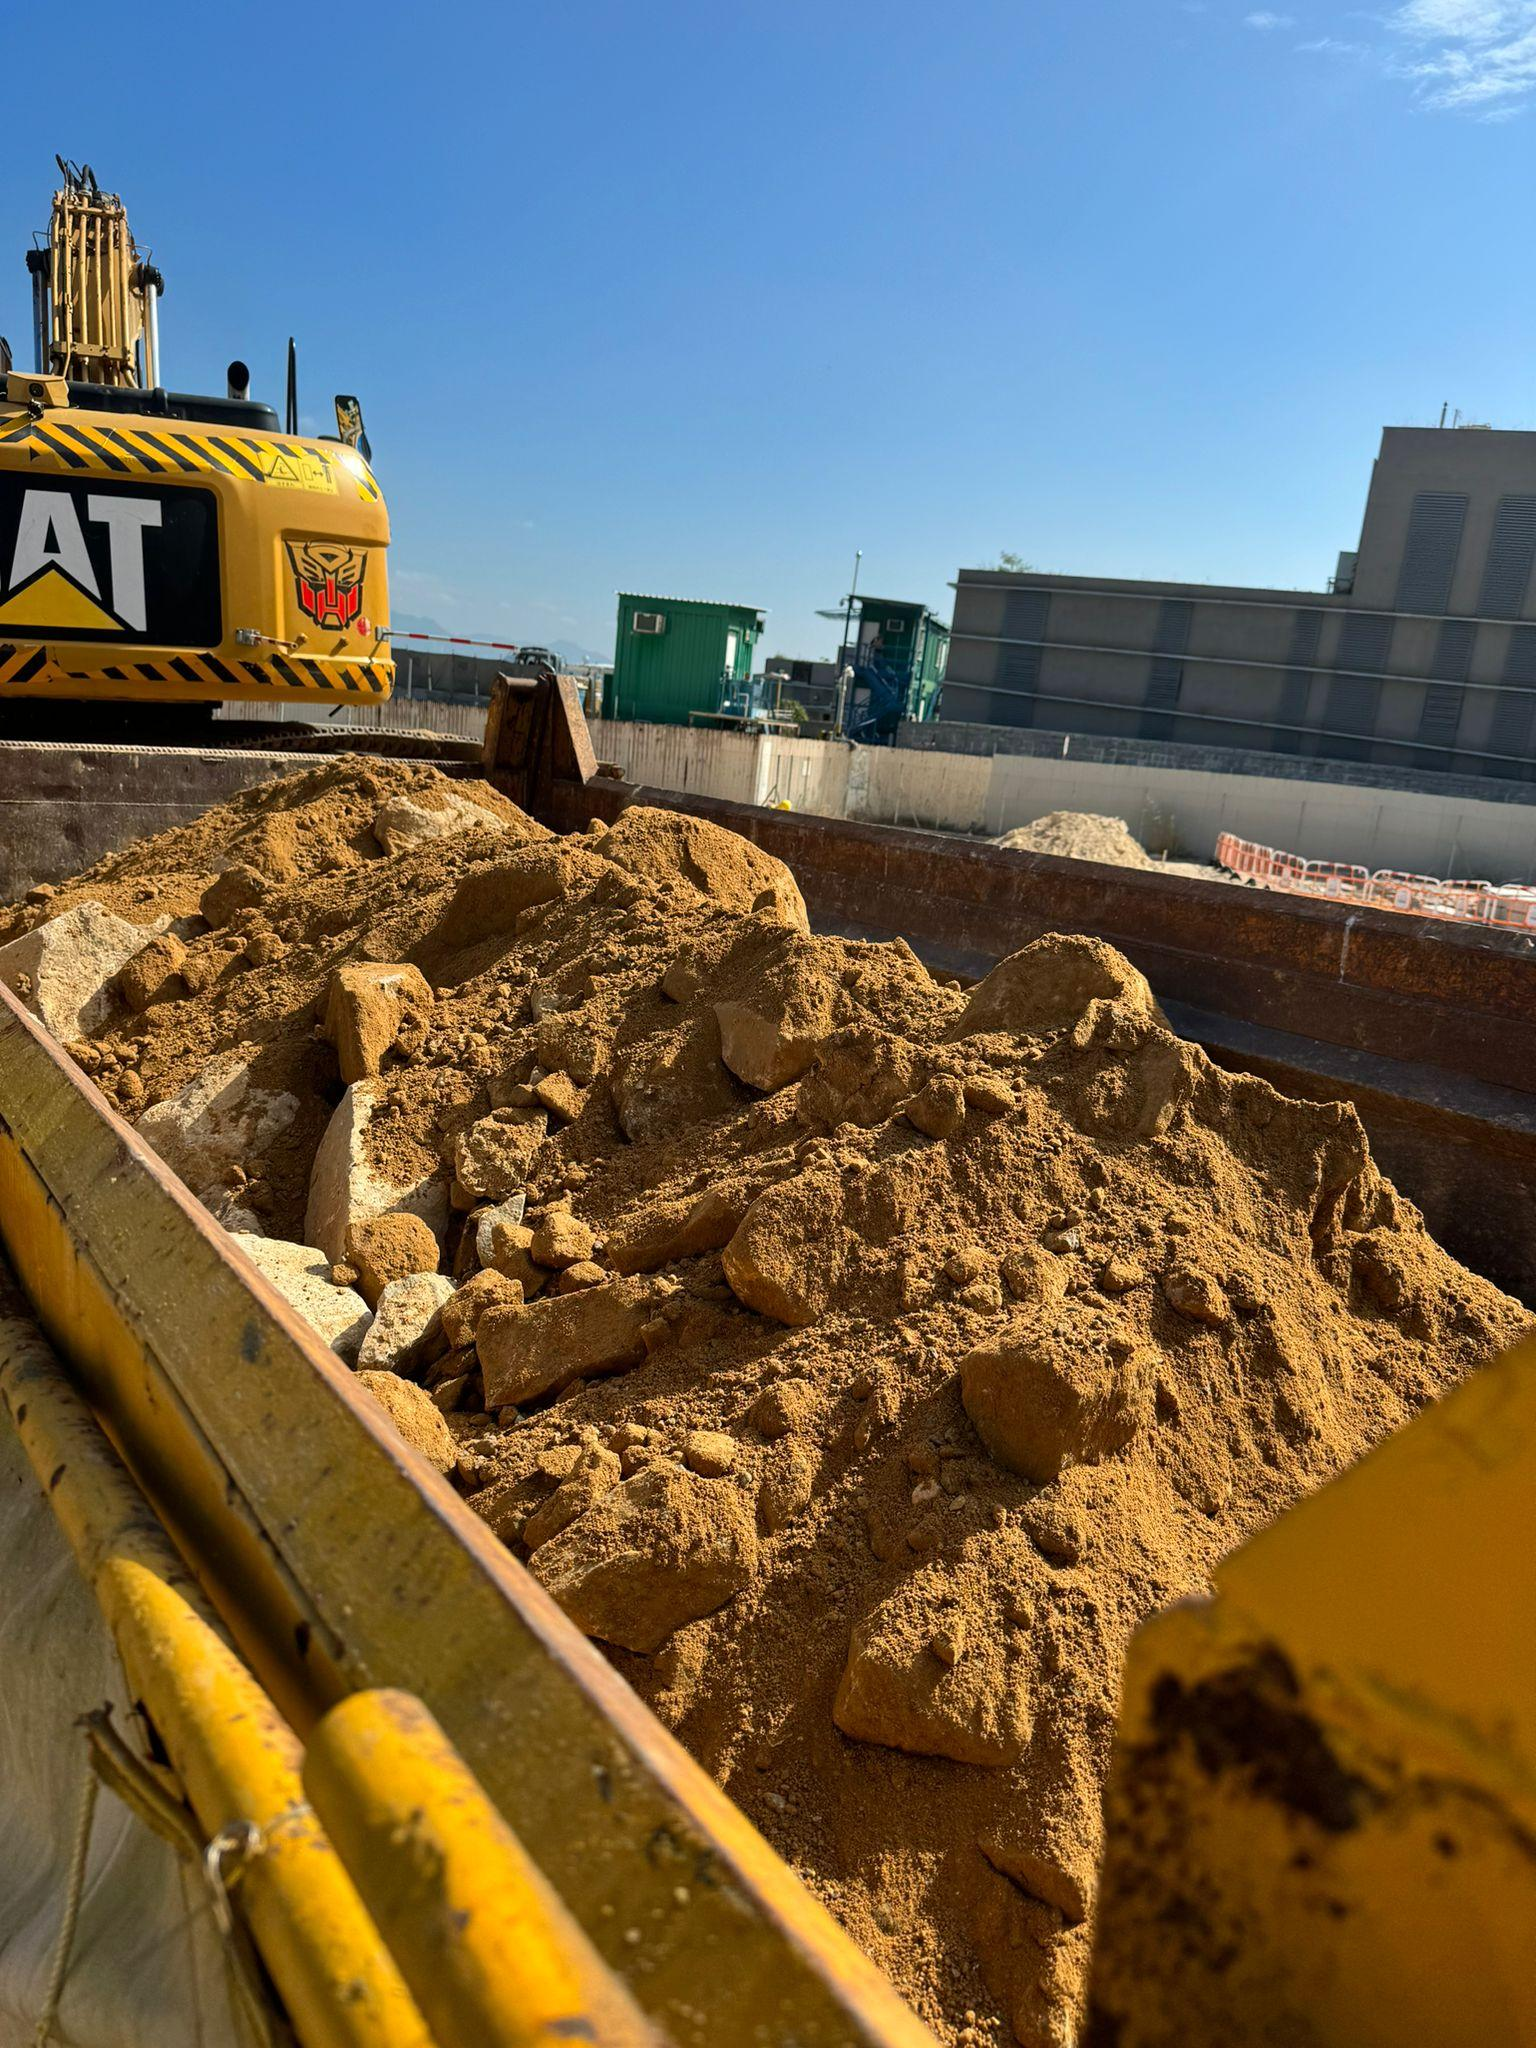wet: (16, 747, 1517, 2037)
